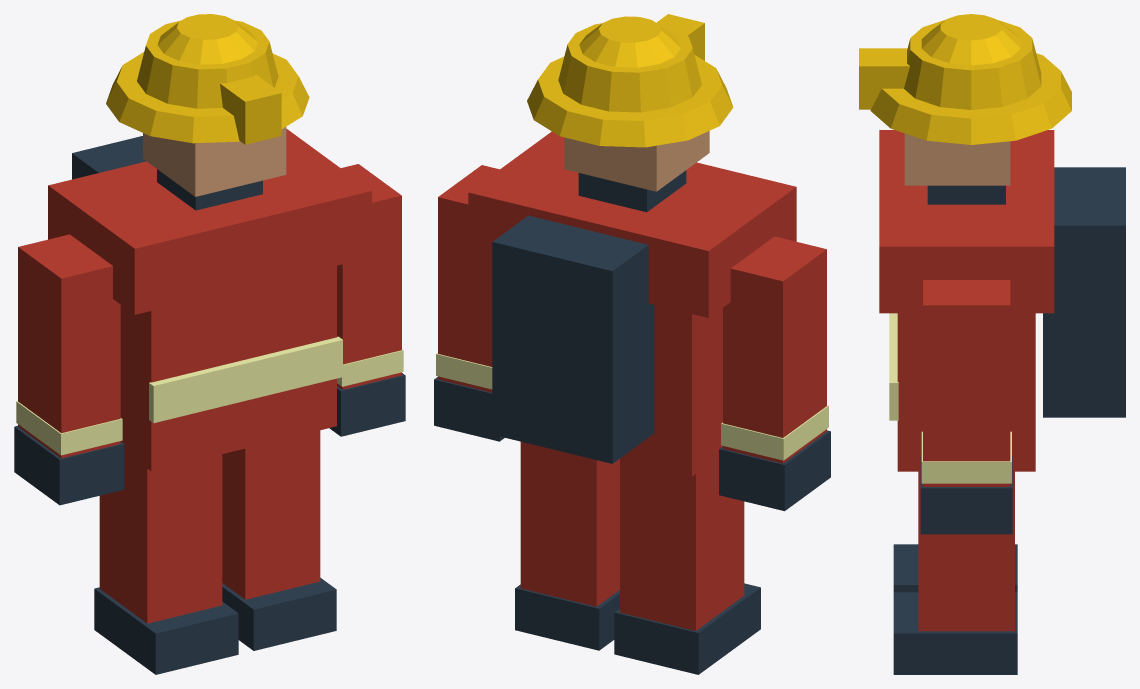
File: FireRescue_Bombero.obj
3 views of the same model, side by side, from view 1: azimuth 30°, elevation 25°; view 2: azimuth 150°, elevation 25°; view 3: azimuth 270°, elevation 25° (orthographic).
Visible parts, largest first — view 1: cuerpo, tanque, casco, reflejante, piel; view 2: cuerpo, tanque, casco, piel, reflejante; view 3: cuerpo, tanque, casco, piel, reflejante.
Part boxes in pixels (x1,y1,x2,y2): cuerpo: (18,128,401,623); tanque: (14,136,405,674); casco: (106,14,309,144); reflejante: (16,336,403,455); piel: (143,127,286,196); cuerpo: (438,131,826,630); tanque: (434,170,830,674); casco: (527,14,733,147); piel: (564,131,709,191); reflejante: (436,353,828,460); cuerpo: (879,130,1054,631); tanque: (893,167,1125,674); casco: (859,14,1071,144); piel: (904,133,1010,185); reflejante: (889,313,1011,483).
Size of the model in its own units: 0.4725 by 0.78 by 0.3129.
